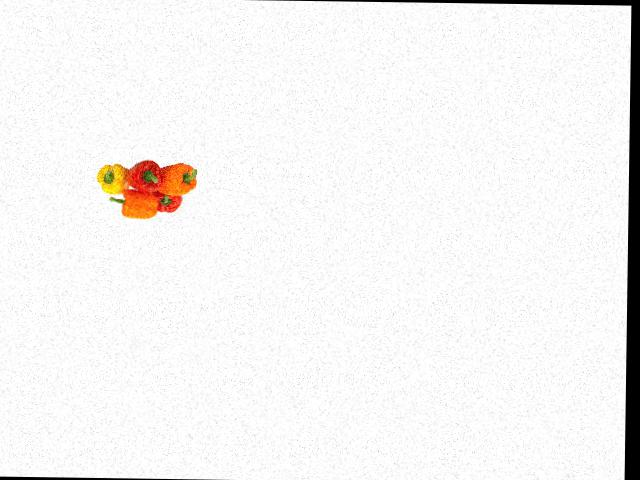bell_pepper: (156, 159, 206, 199)
